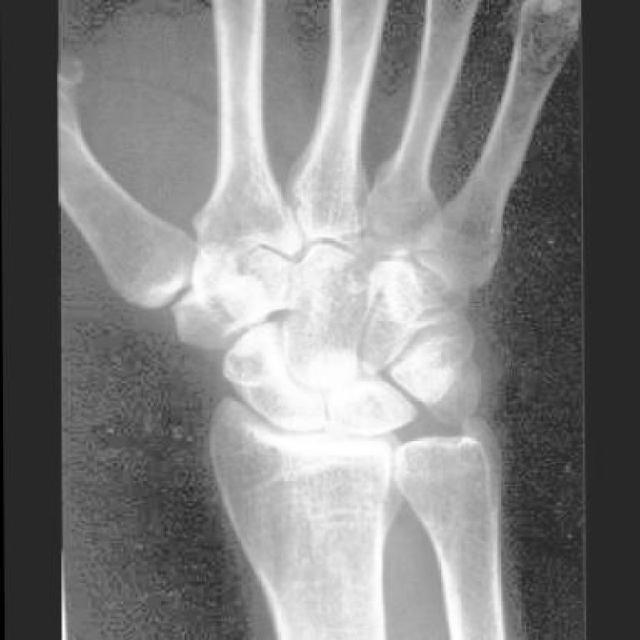Fracture: (391, 248, 478, 322)
